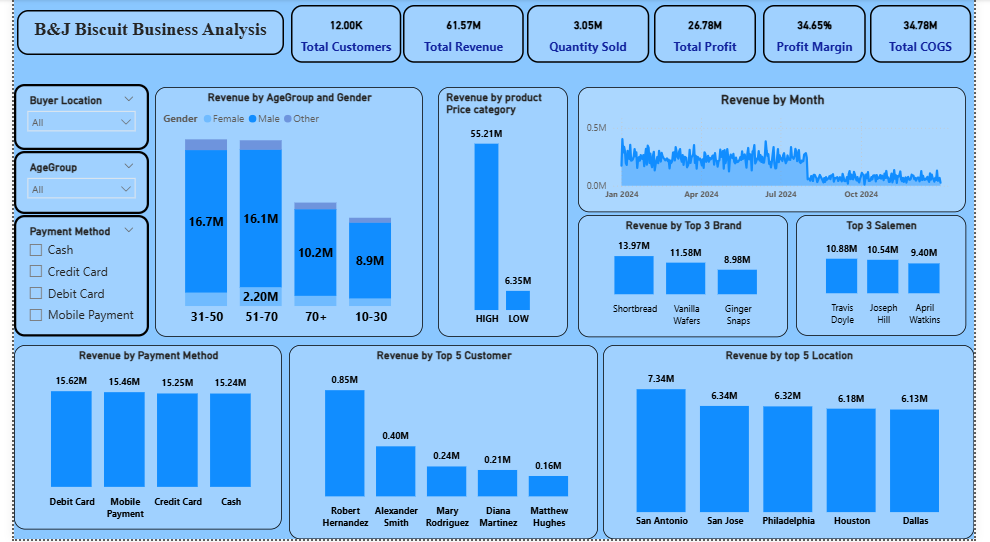

Layout of this report page (visuals, bound fields, positions):
{"tool":"powerbi","page":{"name":"Dashboard01","canvas":[1280,720],"ordinal":0},"visuals":[{"type":"columnChart","title":"Revenue by product Price category ","fields":{"Category":["CustomerDetail.PriceCategory"],"Y":["CustomerDetail.Revenue"]},"box":[565.5,116.7,173,333.4],"z":0},{"type":"columnChart","title":"Revenue by AgeGroup and Gender","fields":{"Y":["CustomerDetail.Revenue"],"Category":["CustomerDetail.AgeGroup"],"Series":["CustomerDetail.Gender"]},"box":[188.5,116.7,357.3,333.4],"z":1000},{"type":"columnChart","title":"Revenue by Payment Method","fields":{"Y":["CustomerDetail.Revenue"],"Category":["CustomerDetail.Payment Method"]},"box":[0,461.4,357.3,246.2],"z":2000},{"type":"columnChart","title":"Revenue by Top 5 Customer","fields":{"Category":["CustomerDetail.Full Name"],"Y":["CustomerDetail.Revenue"]},"box":[367.1,461.2,412.1,258.8],"z":3000},{"type":"card","fields":{"Values":["CustomerDetail.Full Name"]},"box":[369.3,8,146.7,77.3],"z":4000},{"type":"columnChart","title":"Revenue by top 5 Location","fields":{"Y":["CustomerDetail.Revenue"],"Category":["CustomerDetail.Buyer Location"]},"box":[784.9,461.4,495.1,258.8],"z":5000},{"type":"card","fields":{"Values":["CustomerDetail.Profit"]},"box":[853.3,8,136,77.3],"z":6000},{"type":"card","fields":{"Values":["CustomerDetail.Revenue"]},"box":[518.7,8,161.3,77.3],"z":7000},{"type":"card","fields":{"Values":["CustomerDetail.Quantity Purchased"]},"box":[684,8,162.7,77.3],"z":8000},{"type":"card","fields":{"Values":["CustomerDetail.COGS"]},"box":[1141.3,8,134.7,77.3],"z":9000},{"type":"card","fields":{"Values":["CustomerDetail.ProfitMargin"]},"box":[998.7,8,137.3,77.3],"z":10000},{"type":"slicer","fields":{"Values":["CustomerDetail.Buyer Location"]},"box":[0,113.3,180,88],"z":11000},{"type":"slicer","fields":{"Values":["CustomerDetail.Payment Method"]},"box":[0,288.4,180,161.8],"z":12000},{"type":"slicer","fields":{"Values":["CustomerDetail.AgeGroup"]},"box":[0,202.7,180,84],"z":13000},{"type":"columnChart","title":"Revenue by Top 3 Brand","fields":{"Y":["CustomerDetail.Revenue"],"Category":["Products.Biscuit Brand"]},"box":[752,288,280,162.7],"z":14000},{"type":"columnChart","title":"Top 3 Salemen","fields":{"Y":["CustomerDetail.Revenue"],"Category":["CustomerDetail.Sales Representative"]},"box":[1042.7,288,226.7,161.3],"z":15000},{"type":"textbox","box":[4,14.7,356,60],"z":16000},{"type":"stackedAreaChart","title":"Revenue by Month","fields":{"Y":["CustomerDetail.Revenue"],"Category":["CustomerDetail.Transaction Date.Variation.Date Hierarchy.Year","CustomerDetail.Transaction Date.Variation.Date Hierarchy.Quarter","CustomerDetail.Transaction Date.Variation.Date Hierarchy.Month","CustomerDetail.Transaction Date.Variation.Date Hierarchy.Day"]},"box":[752,117.3,517.3,166.7],"z":18000}]}

Visuals, with their boxes in screenshot pixels (x1, y1, x2, y2), scaled from the page's 1280x720 canvas onto the 990x542 screenshot:
"Revenue by product Price category " columnChart: 437,88,571,339
"Revenue by AgeGroup and Gender" columnChart: 146,88,422,339
"Revenue by Payment Method" columnChart: 0,347,276,533
"Revenue by Top 5 Customer" columnChart: 284,347,603,541
card - CustomerDetail.Full Name: 286,6,399,64
"Revenue by top 5 Location" columnChart: 607,347,989,541
card - CustomerDetail.Profit: 660,6,765,64
card - CustomerDetail.Revenue: 401,6,526,64
card - CustomerDetail.Quantity Purchased: 529,6,655,64
card - CustomerDetail.COGS: 883,6,987,64
card - CustomerDetail.ProfitMargin: 772,6,879,64
slicer - CustomerDetail.Buyer Location: 0,85,139,152
slicer - CustomerDetail.Payment Method: 0,217,139,339
slicer - CustomerDetail.AgeGroup: 0,153,139,216
"Revenue by Top 3 Brand" columnChart: 582,217,798,339
"Top 3 Salemen" columnChart: 806,217,982,338
textbox: 3,11,278,56
"Revenue by Month" stackedAreaChart: 582,88,982,214
